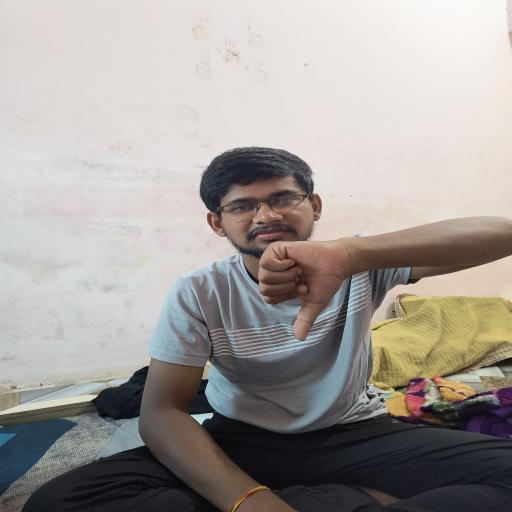Continue: (252, 225, 346, 349)
